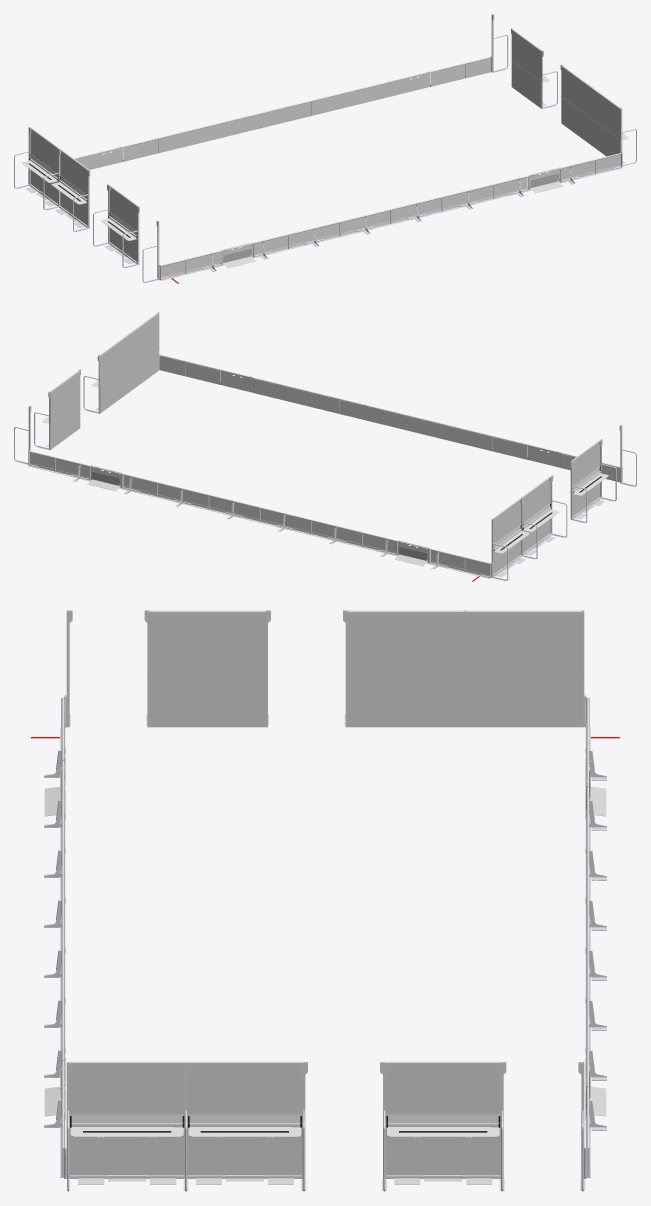
Rendered from 2026 - Rebuilt - FieldBorder.fbx.
3 views of the same model, one above another, from view 1: azimuth 30°, elevation 25°; view 2: azimuth 150°, elevation 25°; view 3: azimuth 270°, elevation 25° (orthographic). The views are drawn at different scales.
Visible parts, largest first — view 1: FE-00012: Driver Station Acrylic.002, FE-00012: Driver Station Acrylic.003, FE-00012: Driver Station Acrylic.001, FE-00004-01: 3/16" Diamond Plate Sheet, 6061 Aluminum.002, FE-00004-01: 3/16" Diamond Plate Sheet, 6061 Aluminum.001, FE-00010: Field Plastic "C".004, FE-00010: Field Plastic "C".006, FE-00010: Field Plastic "C".005, FE-00010: Field Plastic "C".007, FE-00012: Driver Station Acrylic, FE-00012: Driver Station Acrylic.005, FE-00012: Driver Station Acrylic.004 (+14 smaller); view 2: FE-00012: Driver Station Acrylic.002, FE-00012: Driver Station Acrylic.001, FE-00012: Driver Station Acrylic.003, FE-00004-01: 3/16" Diamond Plate Sheet, 6061 Aluminum.001, FE-00004-01: 3/16" Diamond Plate Sheet, 6061 Aluminum.002, FE-00004-01: 3/16" Diamond Plate Sheet, 6061 Aluminum.003, FE-00010: Field Plastic "C".001, FE-00010: Field Plastic "C", FE-00010: Field Plastic "C".002, FE-00010: Field Plastic "C".003, FE-00012: Driver Station Acrylic.004, FE-00012: Driver Station Acrylic (+13 smaller); view 3: FE-00012: Driver Station Acrylic, FE-00012: Driver Station Acrylic.004, FE-00012: Driver Station Acrylic.005, FE-00004-01: 3/16" Diamond Plate Sheet, 6061 Aluminum, FE-00004-01: 3/16" Diamond Plate Sheet, 6061 Aluminum.004, FE-00004-01: 3/16" Diamond Plate Sheet, 6061 Aluminum.005, FE-00012: Driver Station Acrylic.003, FE-00012: Driver Station Acrylic.002, FE-00012: Driver Station Acrylic.001, FE-00004-01: 3/16" Diamond Plate Sheet, 6061 Aluminum.003, FE-00004-01: 3/16" Diamond Plate Sheet, 6061 Aluminum.002, FE-00004-01: 3/16" Diamond Plate Sheet, 6061 Aluminum.001 (+6 smaller).
Part boxes in pixels (left/top/right/bottom): FE-00012: Driver Station Acrylic.002: left=511, top=31, right=541, bottom=81; FE-00012: Driver Station Acrylic.003: left=590, top=89, right=620, bottom=139; FE-00012: Driver Station Acrylic.001: left=561, top=67, right=590, bottom=117; FE-00004-01: 3/16" Diamond Plate Sheet, 6061 Aluminum.002: left=512, top=61, right=541, bottom=108; FE-00004-01: 3/16" Diamond Plate Sheet, 6061 Aluminum.001: left=561, top=98, right=590, bottom=144; FE-00010: Field Plastic "C".004: left=209, top=114, right=260, bottom=140; FE-00010: Field Plastic "C".006: left=260, top=102, right=311, bottom=128; FE-00010: Field Plastic "C".005: left=158, top=127, right=209, bottom=153; FE-00010: Field Plastic "C".007: left=311, top=89, right=362, bottom=115; FE-00012: Driver Station Acrylic: left=109, top=187, right=137, bottom=230; FE-00012: Driver Station Acrylic.005: left=30, top=129, right=58, bottom=172; FE-00012: Driver Station Acrylic.004: left=60, top=151, right=87, bottom=194; FE-00012: Driver Station Acrylic.002: left=50, top=372, right=80, bottom=422; FE-00012: Driver Station Acrylic.001: left=100, top=336, right=129, bottom=386; FE-00012: Driver Station Acrylic.003: left=130, top=314, right=159, bottom=364; FE-00004-01: 3/16" Diamond Plate Sheet, 6061 Aluminum.001: left=100, top=366, right=129, bottom=413; FE-00004-01: 3/16" Diamond Plate Sheet, 6061 Aluminum.002: left=50, top=402, right=79, bottom=449; FE-00004-01: 3/16" Diamond Plate Sheet, 6061 Aluminum.003: left=129, top=344, right=158, bottom=391; FE-00010: Field Plastic "C".001: left=390, top=412, right=441, bottom=438; FE-00010: Field Plastic "C": left=339, top=400, right=390, bottom=426; FE-00010: Field Plastic "C".002: left=441, top=425, right=492, bottom=451; FE-00010: Field Plastic "C".003: left=288, top=387, right=339, bottom=413; FE-00012: Driver Station Acrylic.004: left=523, top=478, right=550, bottom=521; FE-00012: Driver Station Acrylic: left=572, top=442, right=599, bottom=485; FE-00012: Driver Station Acrylic: left=148, top=612, right=266, bottom=673; FE-00012: Driver Station Acrylic.004: left=347, top=612, right=464, bottom=673; FE-00012: Driver Station Acrylic.005: left=465, top=612, right=582, bottom=673; FE-00004-01: 3/16" Diamond Plate Sheet, 6061 Aluminum: left=148, top=674, right=266, bottom=727; FE-00004-01: 3/16" Diamond Plate Sheet, 6061 Aluminum.004: left=347, top=674, right=464, bottom=727; FE-00004-01: 3/16" Diamond Plate Sheet, 6061 Aluminum.005: left=465, top=674, right=582, bottom=727; FE-00012: Driver Station Acrylic.003: left=69, top=1063, right=184, bottom=1122; FE-00012: Driver Station Acrylic.002: left=385, top=1063, right=500, bottom=1122; FE-00012: Driver Station Acrylic.001: left=187, top=1063, right=302, bottom=1122; FE-00004-01: 3/16" Diamond Plate Sheet, 6061 Aluminum.003: left=69, top=1124, right=184, bottom=1177; FE-00004-01: 3/16" Diamond Plate Sheet, 6061 Aluminum.002: left=385, top=1124, right=500, bottom=1177; FE-00004-01: 3/16" Diamond Plate Sheet, 6061 Aluminum.001: left=187, top=1124, right=302, bottom=1177.
Bounding box in the file's own units: 1772 × 199 × 914.
